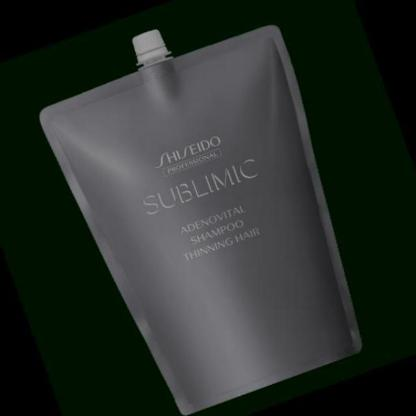Plastic Packaging: (40, 25, 364, 416)
